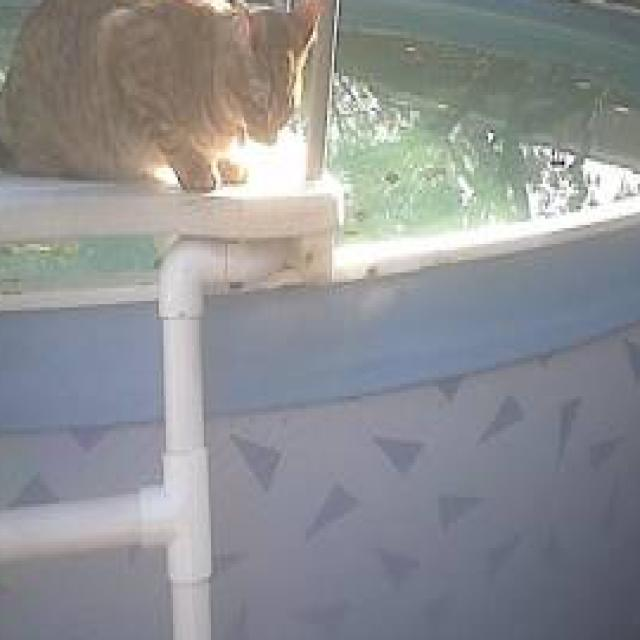Bengal: (0, 0, 329, 199)
